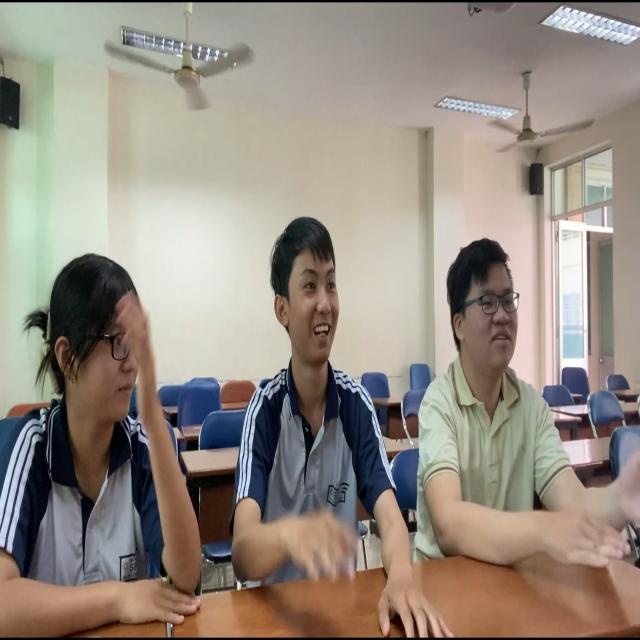raise_hand: (1, 253, 200, 640)
